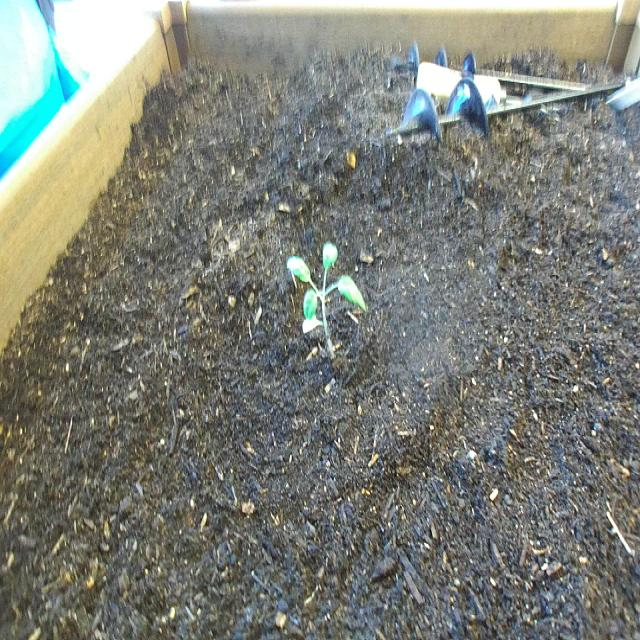Healthy: (285, 236, 368, 368)
